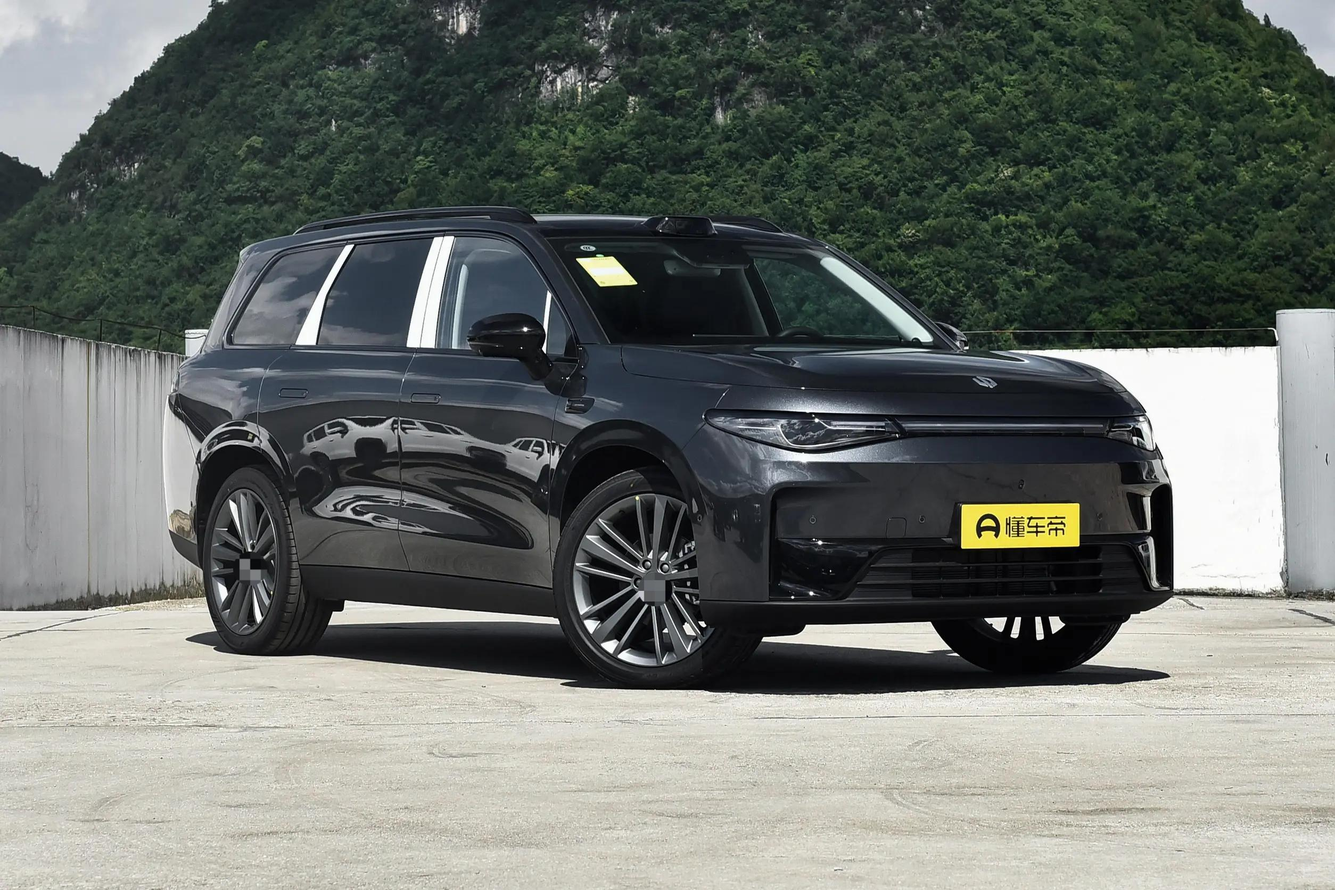LEAPMOTOR: (971, 375, 998, 389)
